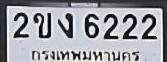2: (141, 13, 156, 39), (13, 11, 28, 37), (122, 13, 136, 38), (103, 13, 117, 38)
6: (84, 13, 98, 37)
A02: (32, 12, 50, 37)
A07: (57, 12, 72, 37)
BKK: (28, 47, 143, 62)
